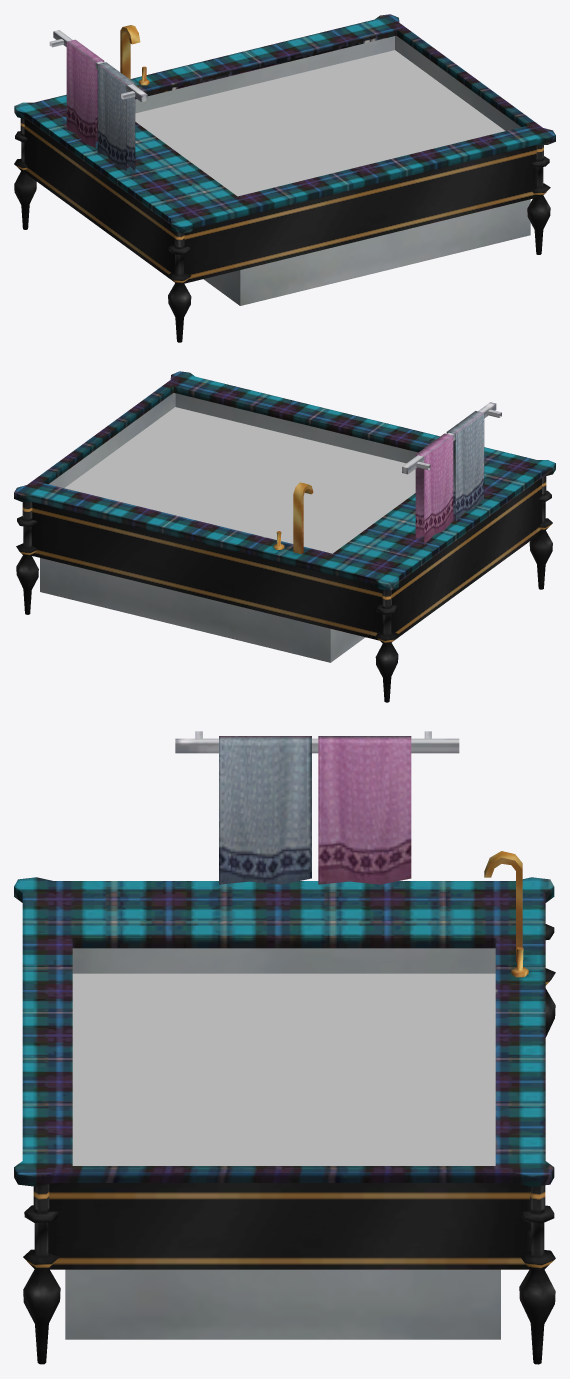
Rendered from furni_0200325_02.FBX.
3 renders of one model, top to bottom at view 1: azimuth 30°, elevation 25°; view 2: azimuth 150°, elevation 25°; view 3: azimuth 270°, elevation 25°, orthographic. The views are drawn at different scales.
Visible parts, largest first — view 1: furni_0200325_02; view 2: furni_0200325_02; view 3: furni_0200325_02.
Part boxes in pixels (<box>): furni_0200325_02: <box>14,14,555,342</box>; furni_0200325_02: <box>14,371,555,702</box>; furni_0200325_02: <box>14,731,555,1364</box>.
Size of the model in its own units: 160 by 86.2 by 122.
